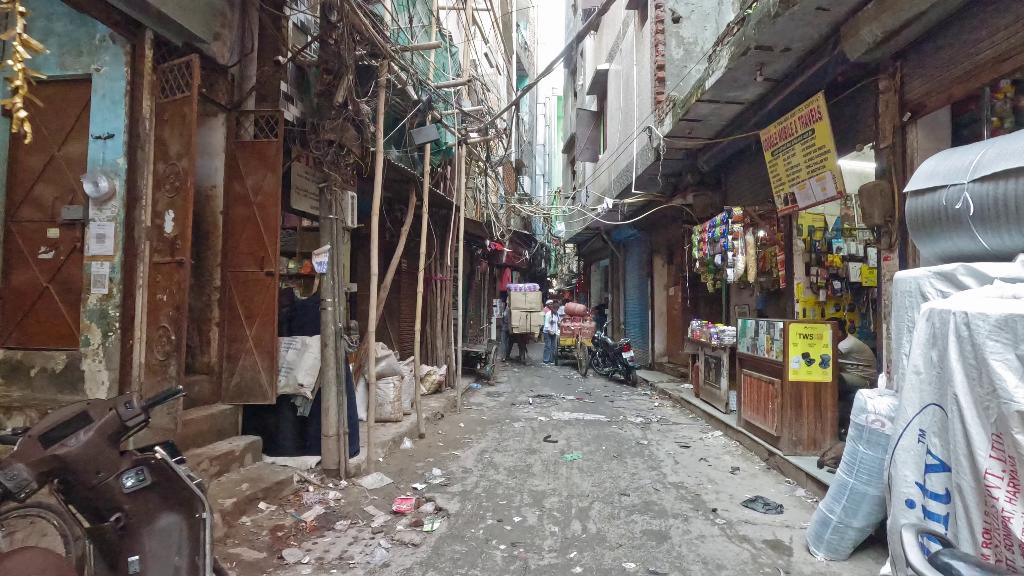garbage: (742, 492, 785, 517), (363, 505, 392, 527), (392, 493, 416, 517), (421, 516, 443, 534), (371, 547, 392, 565), (554, 220, 567, 238), (400, 436, 415, 450), (563, 452, 584, 460), (470, 382, 482, 389)
